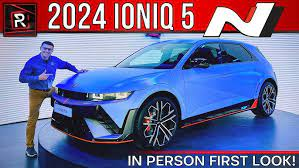Honda Ioniq: (49, 33, 280, 153)
